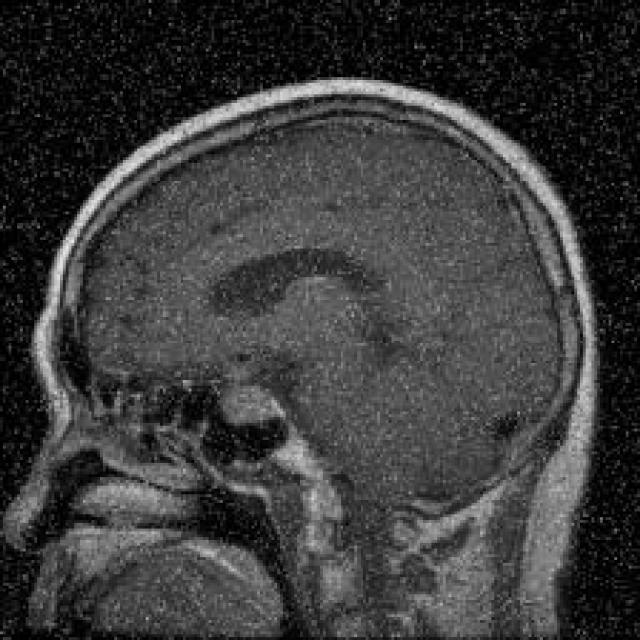pituitary_tumor: (206, 331, 316, 446)
